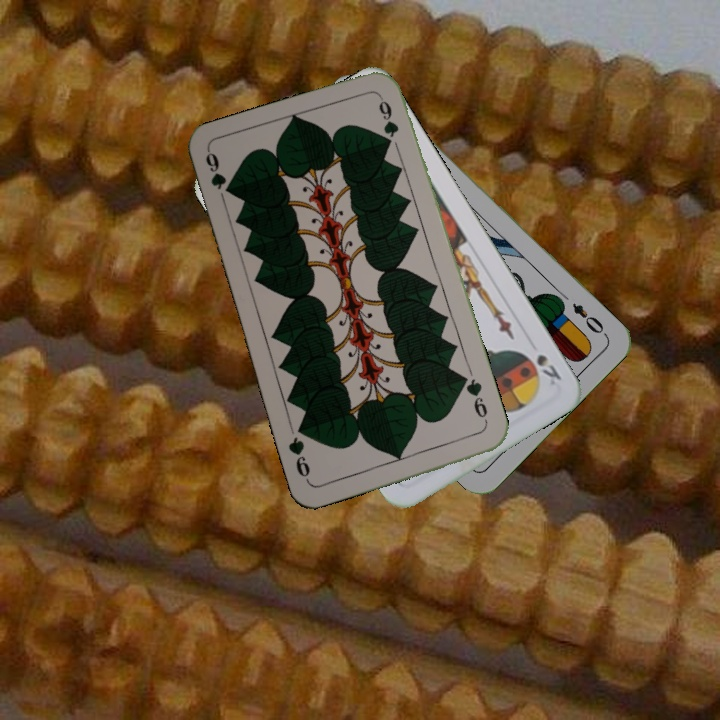EO: (568, 299, 610, 339)
G9: (459, 372, 491, 428), (201, 148, 234, 197)
SK: (520, 347, 564, 388)
